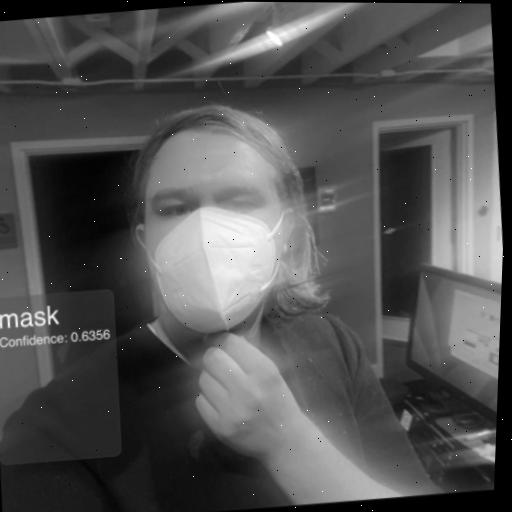mask: (105, 89, 318, 357)
